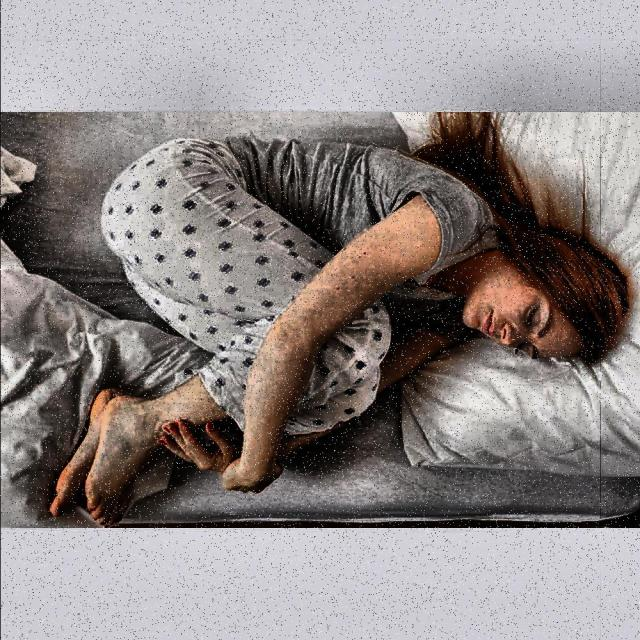Not_Supine: (51, 114, 629, 522)
